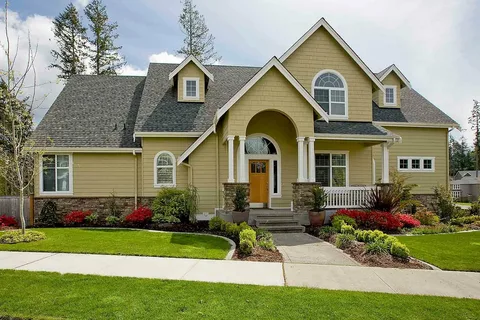private_hause: (69, 68, 444, 209)
